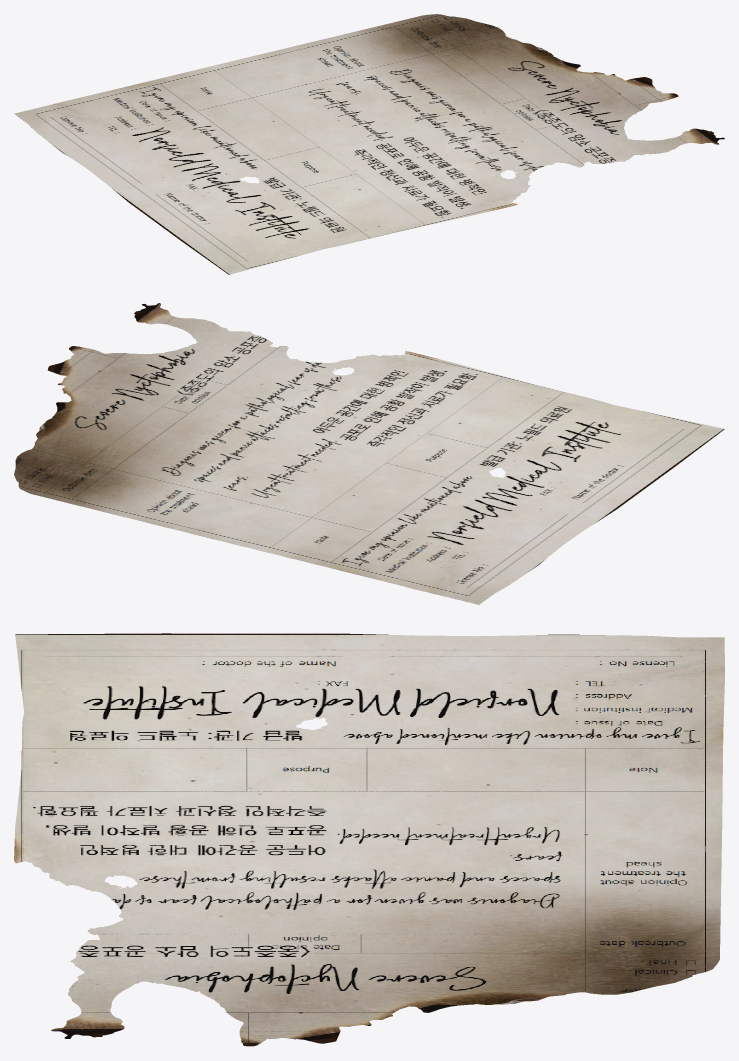
The model's file is paper0.fbx.
3 renders of one model, top to bottom at view 1: azimuth 30°, elevation 25°; view 2: azimuth 150°, elevation 25°; view 3: azimuth 270°, elevation 25°, orthographic. The views are drawn at different scales.
Visible parts, largest first — view 1: Burnt_paper; view 2: Burnt_paper; view 3: Burnt_paper.
Boxes of the visible parts, <box> form: Burnt_paper: <box>14,14,724,274</box>; Burnt_paper: <box>14,303,724,604</box>; Burnt_paper: <box>14,633,724,1046</box>.
Size of the model in its own units: 328 by 0.0254 by 239.
1 material, 1 textured.
